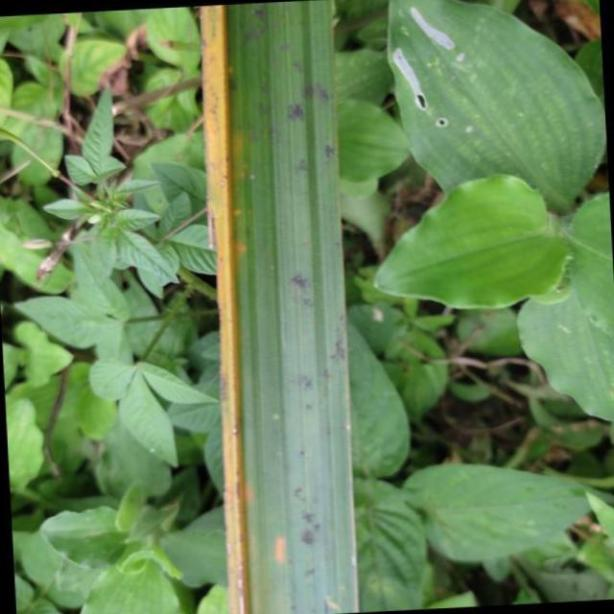Megnesium: (200, 0, 360, 614)
